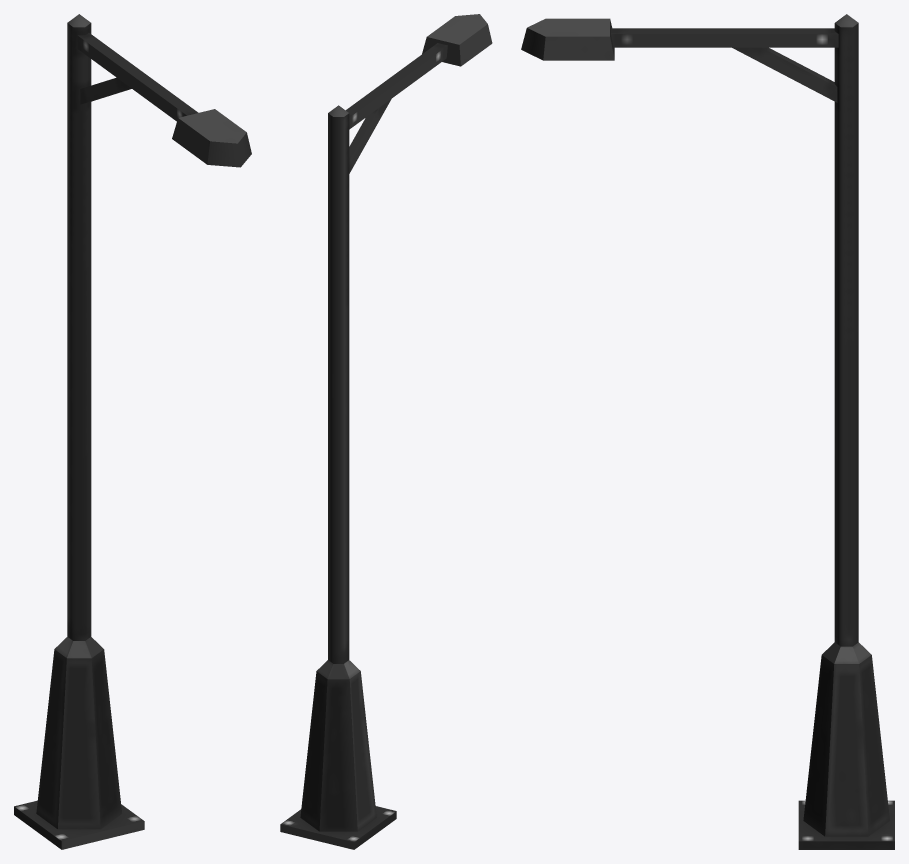
File: Street_Light_001_A.FBX
The picture shows the model from 3 angles, left to right: view 1: azimuth 30°, elevation 25°; view 2: azimuth 150°, elevation 25°; view 3: azimuth 270°, elevation 25°; orthographic projection. The views are drawn at different scales.
Visible parts, largest first — view 1: Street_Light_001_A; view 2: Street_Light_001_A; view 3: Street_Light_001_A.
Part boxes in pixels (bbox=[...]): Street_Light_001_A: bbox=[14, 14, 251, 849]; Street_Light_001_A: bbox=[280, 14, 492, 849]; Street_Light_001_A: bbox=[521, 14, 894, 849].
Size of the model in its own units: 30 by 116 by 280.
